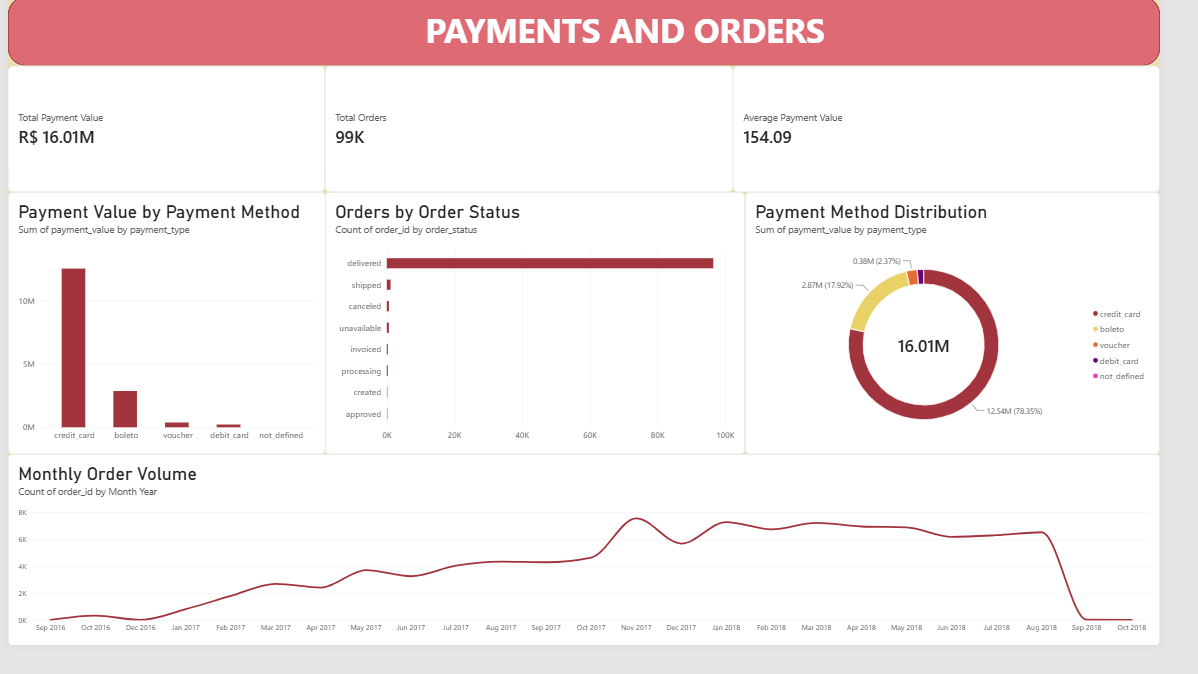

The page's visual inventory and layout, read from the dashboard file:
{"tool":"powerbi","page":{"name":"Payments & Orders","canvas":[1920,1080],"ordinal":1},"visuals":[{"type":"clusteredColumnChart","title":"Payment Value by Payment Method","fields":{"Category":["ecommerce_sales olist_order_payments_dataset.payment_type"],"Y":["Sum(ecommerce_sales olist_order_payments_dataset.payment_value)"]},"box":[0,324.3,528.6,437.1],"z":0},{"type":"clusteredBarChart","title":"Orders by Order Status","fields":{"Category":["ecommerce_sales olist_orders_clean.order_status"],"Y":["CountNonNull(ecommerce_sales olist_orders_clean.order_id)"]},"box":[528.6,324.3,700,437.1],"z":1000},{"type":"lineChart","title":"Monthly Order Volume","fields":{"Category":["ecommerce_sales olist_orders_clean.Month Year"],"Y":["Count(ecommerce_sales olist_orders_clean.order_id)"]},"box":[0,761.4,1920,318.6],"z":2000},{"type":"donutChart","title":"Payment Method Distribution","fields":{"Category":["ecommerce_sales olist_order_payments_dataset.payment_type"],"Y":["Sum(ecommerce_sales olist_order_payments_dataset.payment_value)"]},"box":[1228.6,324.3,691.4,437.1],"z":3000},{"type":"cardVisual","fields":{"Data":["ecommerce_sales olist_order_payments_dataset.Total Payment Value"]},"box":[0,114.3,528.6,210],"z":4000},{"type":"cardVisual","fields":{"Data":["ecommerce_sales olist_order_items_dataset.Total Orders With Items"]},"box":[528.6,114.3,680,210],"z":5000},{"type":"cardVisual","fields":{"Data":["ecommerce_sales olist_customers_dataset.Average Payment Value"]},"box":[1208.3,115,711.4,210],"z":6000},{"type":"shape","box":[0,0,1920,114.3],"z":7000},{"type":"textbox","box":[0,16.7,1730,98.3],"z":8000}]}

Visuals, with their boxes in screenshot pixels (x1, y1, x2, y2), scaled from the page's 1920x1080 canvas onto the 1198x674 screenshot:
"Payment Value by Payment Method" clusteredColumnChart: <bbox>0, 202, 330, 475</bbox>
"Orders by Order Status" clusteredBarChart: <bbox>330, 202, 767, 475</bbox>
"Monthly Order Volume" lineChart: <bbox>0, 475, 1197, 673</bbox>
"Payment Method Distribution" donutChart: <bbox>767, 202, 1197, 475</bbox>
cardVisual - ecommerce_sales olist_order_payments_dataset.Total Payment Value: <bbox>0, 71, 330, 202</bbox>
cardVisual - ecommerce_sales olist_order_items_dataset.Total Orders With Items: <bbox>330, 71, 754, 202</bbox>
cardVisual - ecommerce_sales olist_customers_dataset.Average Payment Value: <bbox>754, 72, 1197, 203</bbox>
shape: <bbox>0, 0, 1197, 71</bbox>
textbox: <bbox>0, 10, 1079, 72</bbox>
